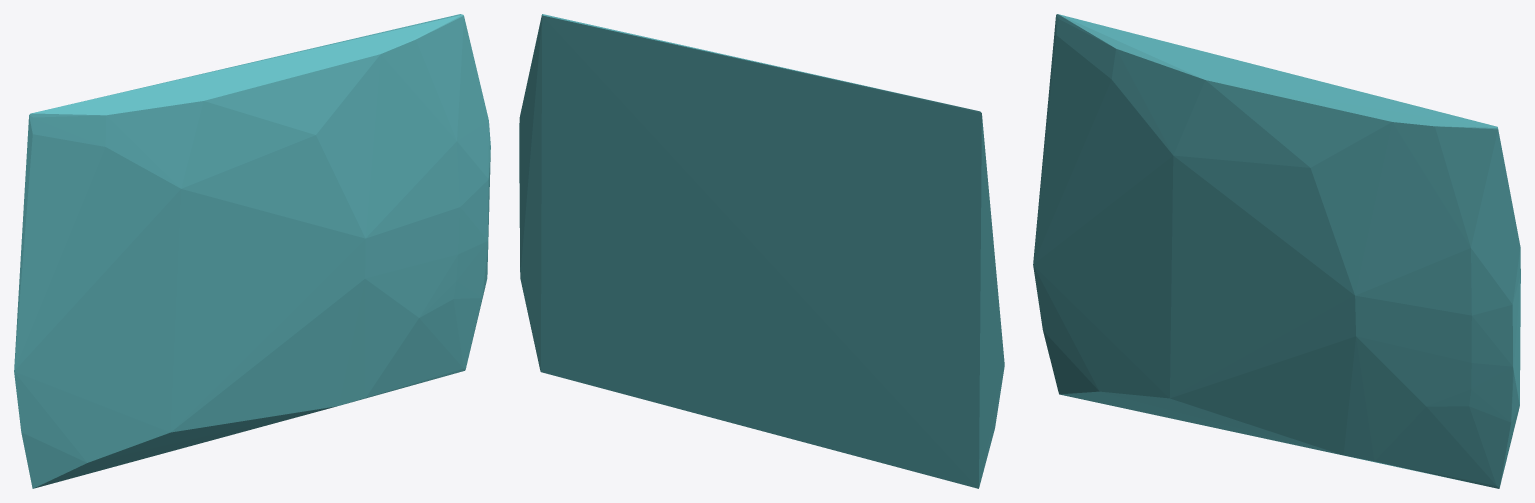
The model's file is bodyPart_exterior_roof_panel_d01.glb.
3 renders of one model, left to right at view 1: azimuth 30°, elevation 25°; view 2: azimuth 150°, elevation 25°; view 3: azimuth 330°, elevation 25°, orthographic.
Visible parts, largest first — view 1: geometry_0; view 2: geometry_0; view 3: geometry_0.
Part boxes in pixels (bbox=[...]): geometry_0: bbox=[14, 14, 490, 488]; geometry_0: bbox=[519, 14, 1004, 488]; geometry_0: bbox=[1033, 14, 1520, 488].
Bounding box in the file's own units: 0.4597 × 0.3441 × 0.0384.
